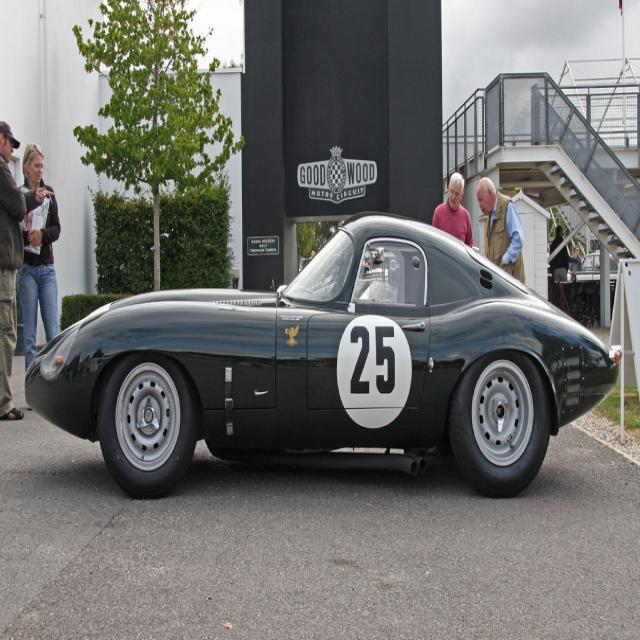car: (24, 200, 624, 496)
